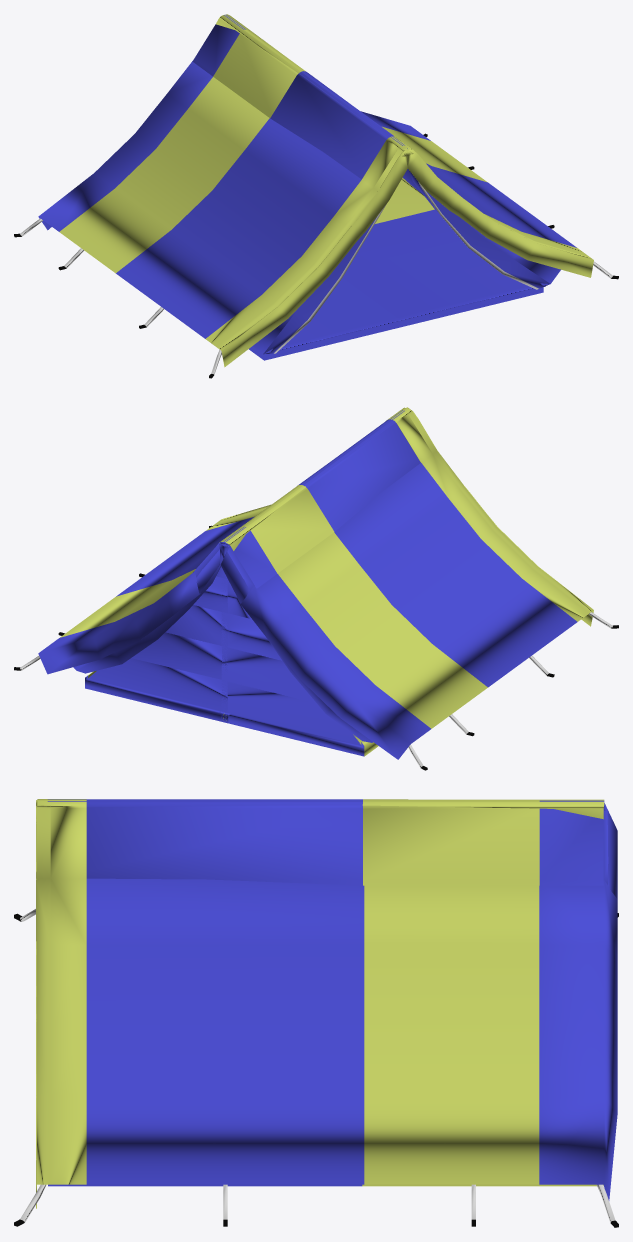
The model's file is Barraca-02.fbx.
3 renders of one model, top to bottom at view 1: azimuth 30°, elevation 25°; view 2: azimuth 150°, elevation 25°; view 3: azimuth 270°, elevation 25°, orthographic. The views are drawn at different scales.
Visible parts, largest first — view 1: Cube; view 2: Cube; view 3: Cube.
Boxes of the visible parts, box(x1,y1,x2,y2) form: Cube: box(14, 14, 618, 378); Cube: box(14, 407, 618, 770); Cube: box(14, 799, 618, 1227).
Size of the model in its own units: 757 by 316 by 618.
